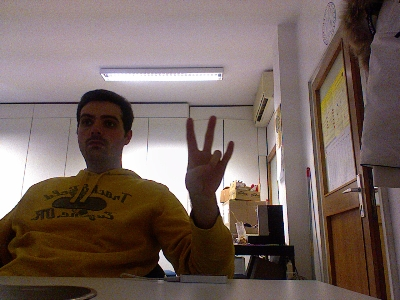观音: (183, 112, 235, 197)
